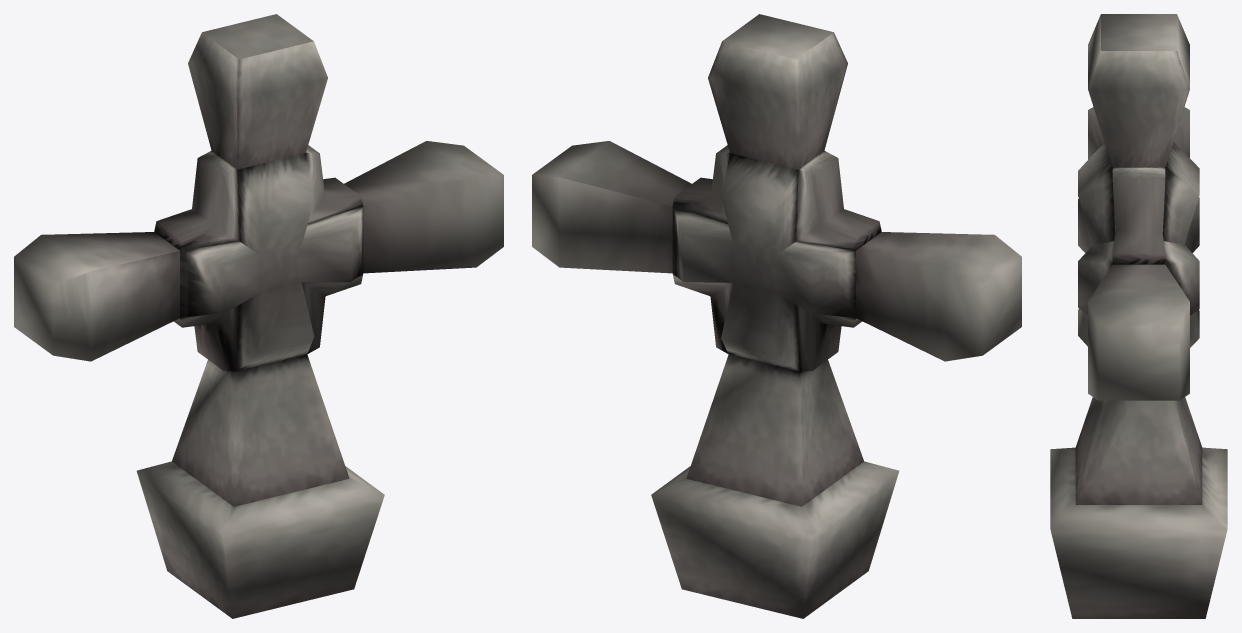
Rendered from grave_stone_cross.DAE.
3 renders of one model, left to right at view 1: azimuth 30°, elevation 25°; view 2: azimuth 150°, elevation 25°; view 3: azimuth 270°, elevation 25°, orthographic.
Parts seen in each view (by area): view 1: Box02; view 2: Box02; view 3: Box02.
Boxes of the visible parts, left/top/right/bottom form: Box02: left=14, top=14, right=503, bottom=618; Box02: left=532, top=14, right=1021, bottom=618; Box02: left=1050, top=14, right=1227, bottom=618.
Size of the model in its own units: 1.39 by 1.6 by 0.464.
